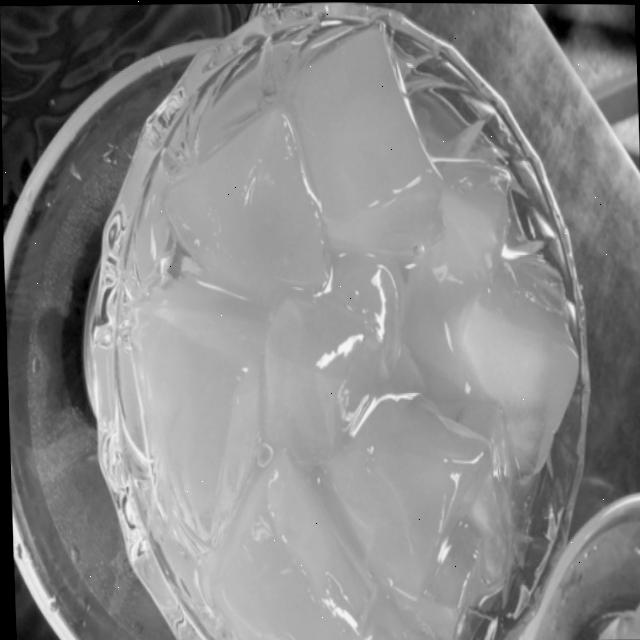蛋糕甜品: (129, 46, 567, 640)
